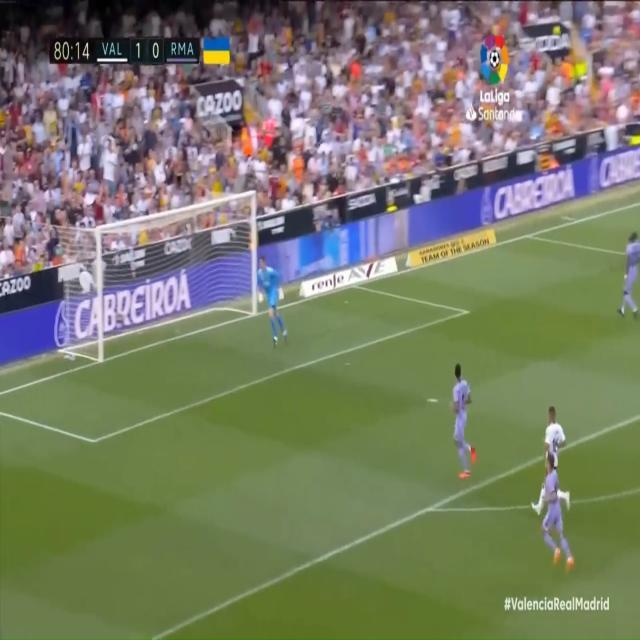goalkeeper: (255, 254, 287, 355)
player: (541, 452, 576, 573), (532, 399, 567, 517), (452, 360, 479, 478), (615, 213, 640, 322)
